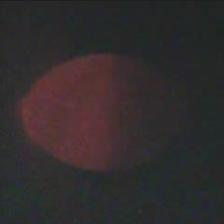fertile: (12, 50, 188, 176)
